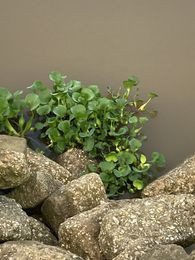water_hyacinth: (0, 52, 165, 209)
